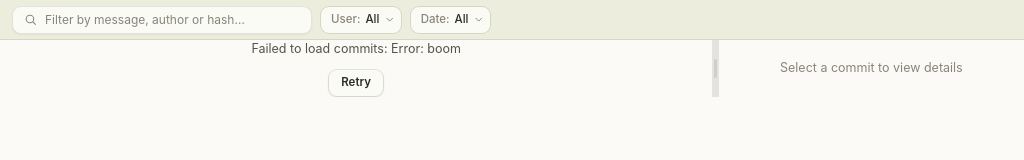
Test case: LogTab commit list › shows an error with a Retry button that reloads
The width and height of the screenshot is (1024, 160).
Click the button "Retry". click: (356, 83)
box: [328,69,384,97]
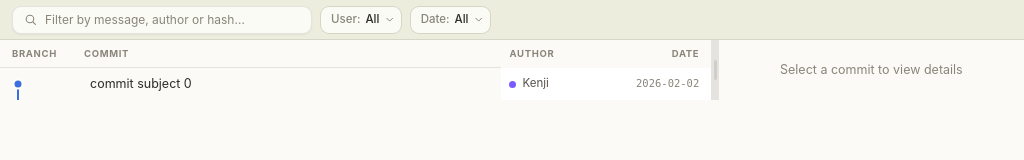
Expected: the text "commit subject 0" is shown, [90,75,192,93]
